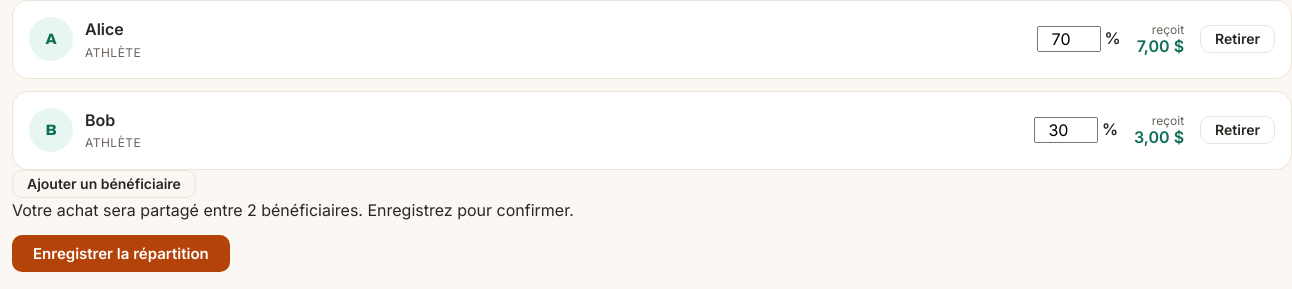
it: BeneficiarySplit › retirer un bénéficiaire réégalise les lignes restantes
This screenshot has width=1292, height=289.
What coordinates should you click on to do the following:
click the button "Retirer" next to "3,00 $"
I would click on:
 (1238, 130)
Its box is [1200,116,1275,144].
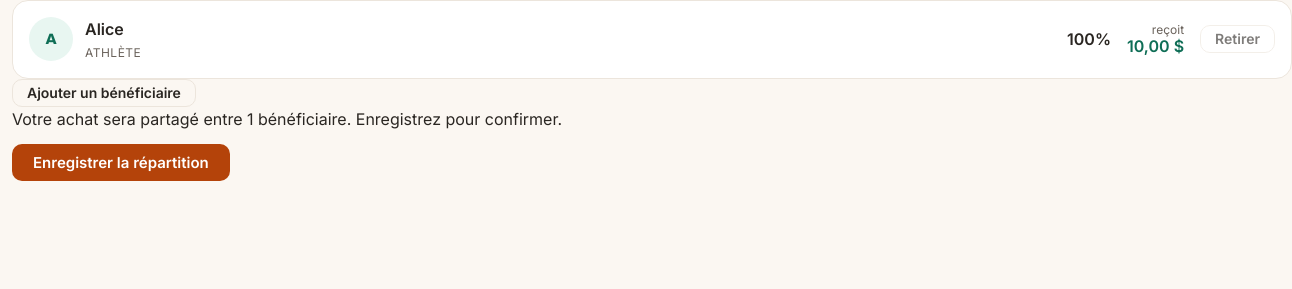
Now the text "100%" is shown, box [1067,29,1111,49]
